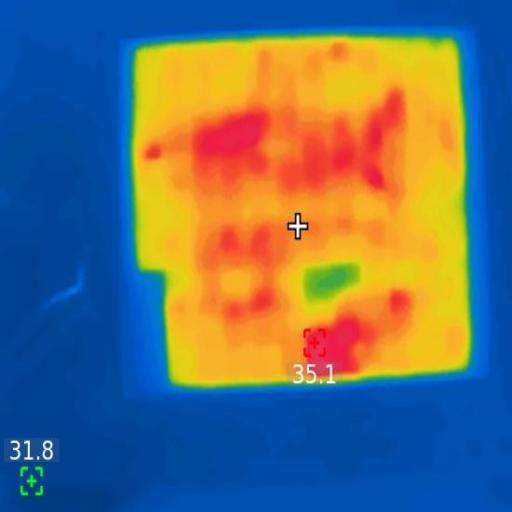hotspot: (296, 118, 402, 192), (207, 223, 284, 312), (193, 111, 271, 198), (304, 322, 370, 373), (386, 284, 414, 322)
